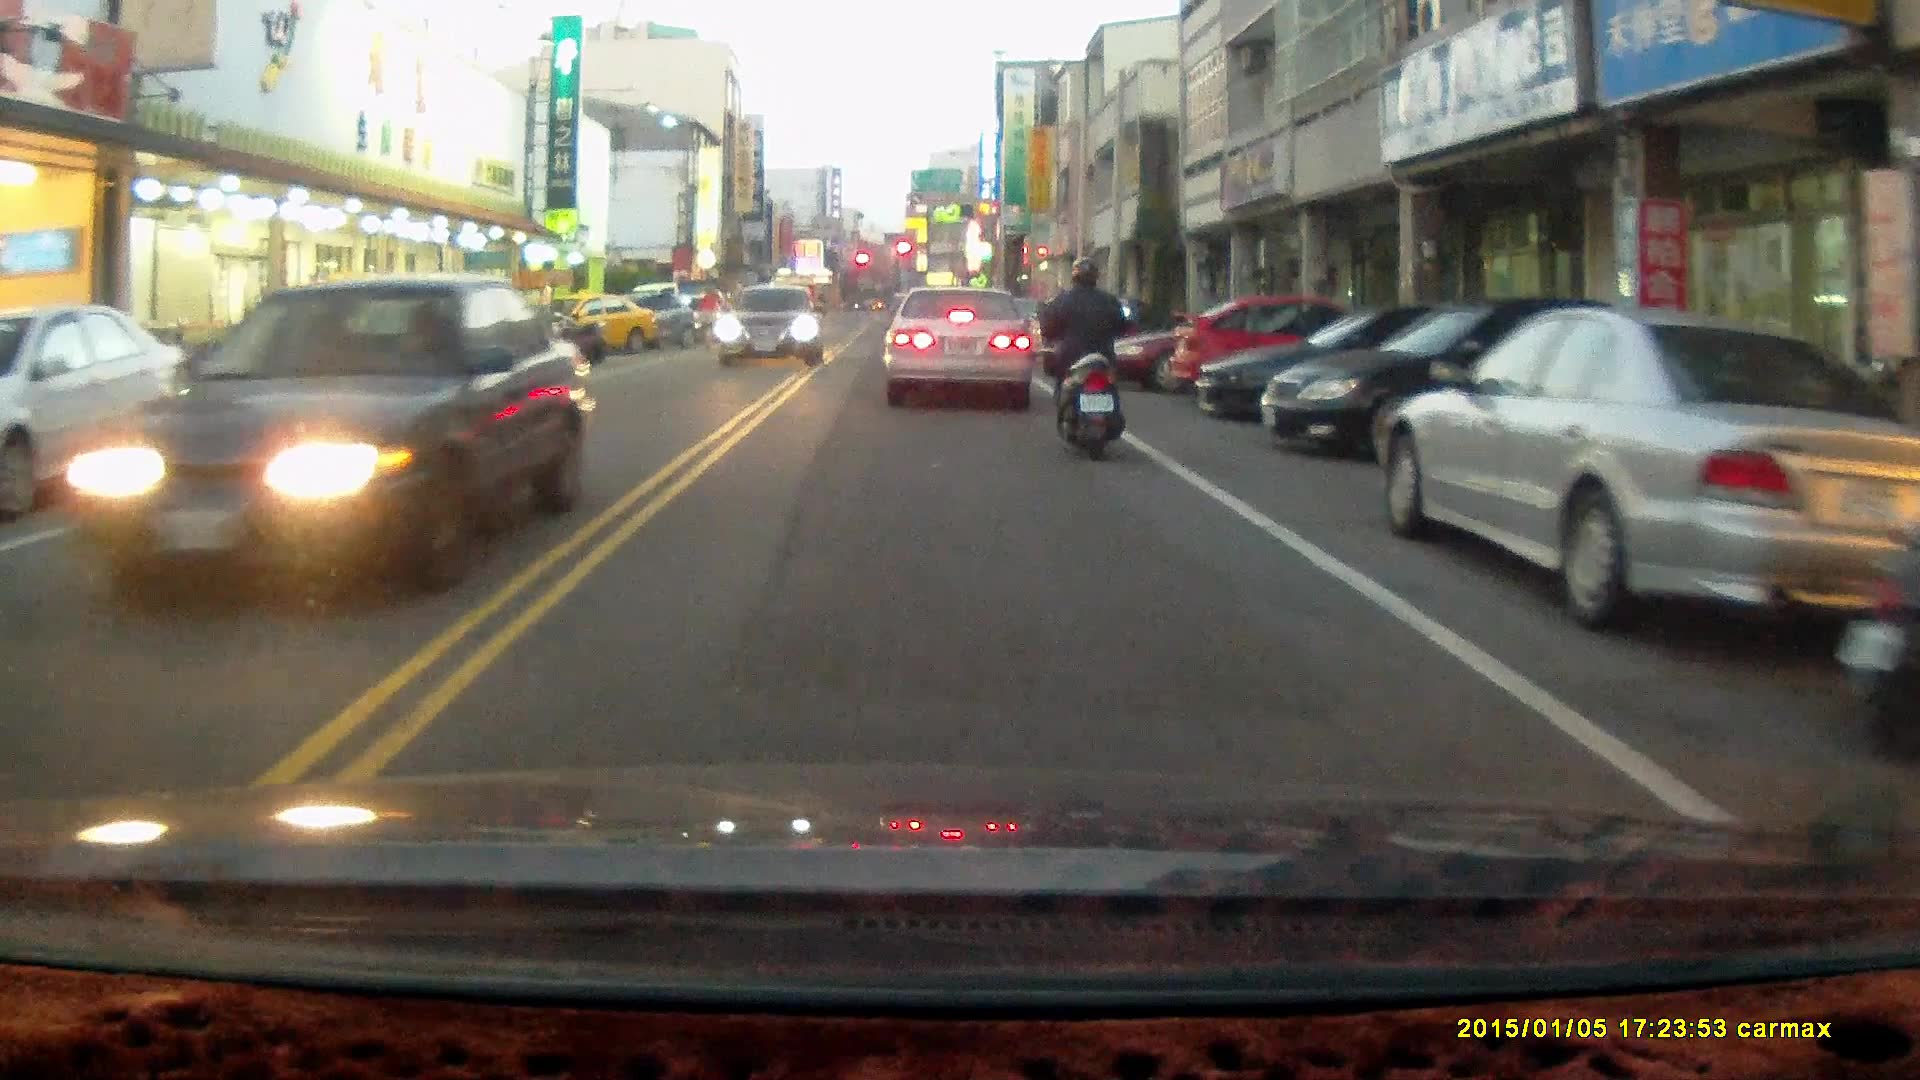rider: (1037, 254, 1133, 462), (694, 284, 722, 353)
vehicle: (1381, 309, 1920, 635), (85, 277, 589, 600), (1258, 300, 1643, 456), (1191, 307, 1558, 428), (0, 309, 180, 522), (1164, 295, 1387, 404), (882, 285, 1036, 412), (718, 283, 826, 369), (524, 291, 653, 361)
